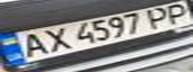4: (72, 20, 96, 46)
5: (90, 17, 112, 43)
7: (121, 10, 148, 35)
9: (106, 14, 127, 38)
A: (12, 30, 51, 59)
P: (139, 4, 178, 28), (157, 1, 193, 26)
X: (36, 25, 72, 54)
